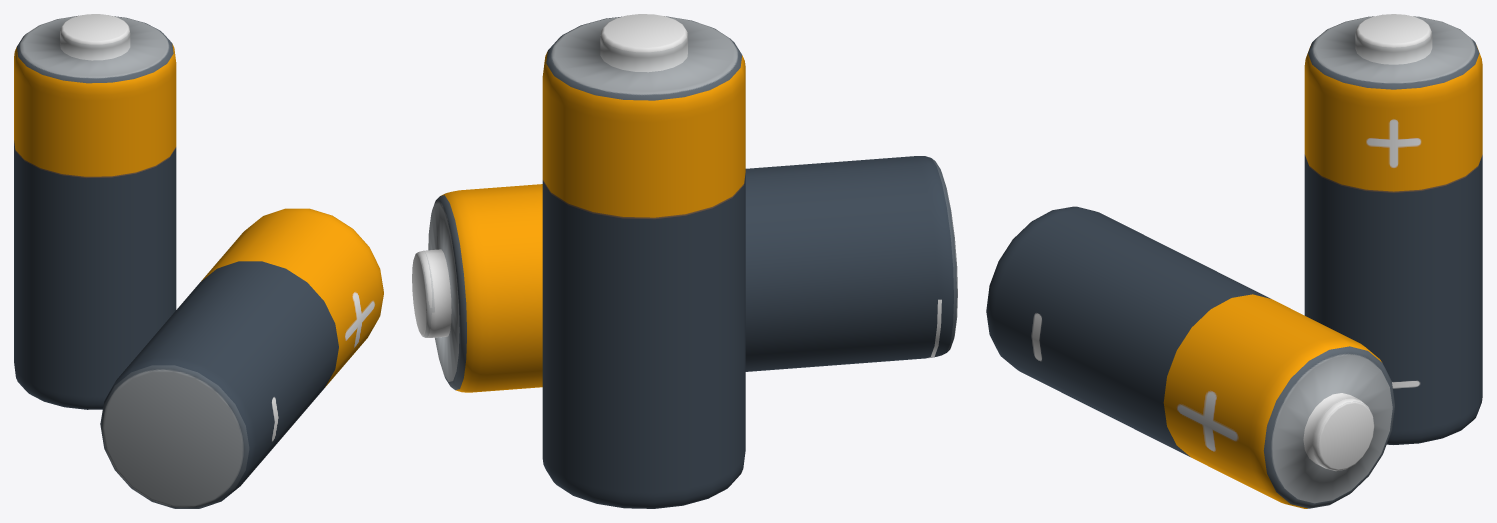
The model's file is minimalist_battery_3d_model.glb.
3 renders of one model, left to right at view 1: azimuth 30°, elevation 25°; view 2: azimuth 150°, elevation 25°; view 3: azimuth 270°, elevation 25°, orthographic. The views are drawn at different scales.
Parts seen in each view (by area): view 1: Cylinder_2, Cylinder.001_3; view 2: Cylinder_2, Cylinder.001_3; view 3: Cylinder.001_3, Cylinder_2.
Part boxes in pixels (x1=…): Cylinder_2: x1=14, y1=14, x2=176, y2=409; Cylinder.001_3: x1=100, y1=208, x2=383, y2=508; Cylinder_2: x1=542, y1=14, x2=745, y2=508; Cylinder.001_3: x1=412, y1=156, x2=957, y2=392; Cylinder.001_3: x1=986, y1=206, x2=1394, y2=508; Cylinder_2: x1=1304, y1=14, x2=1482, y2=444.
Bounding box in the file's own units: 3.97 × 3.8 × 4.47.
Materials: 2 (2 with a texture image).
